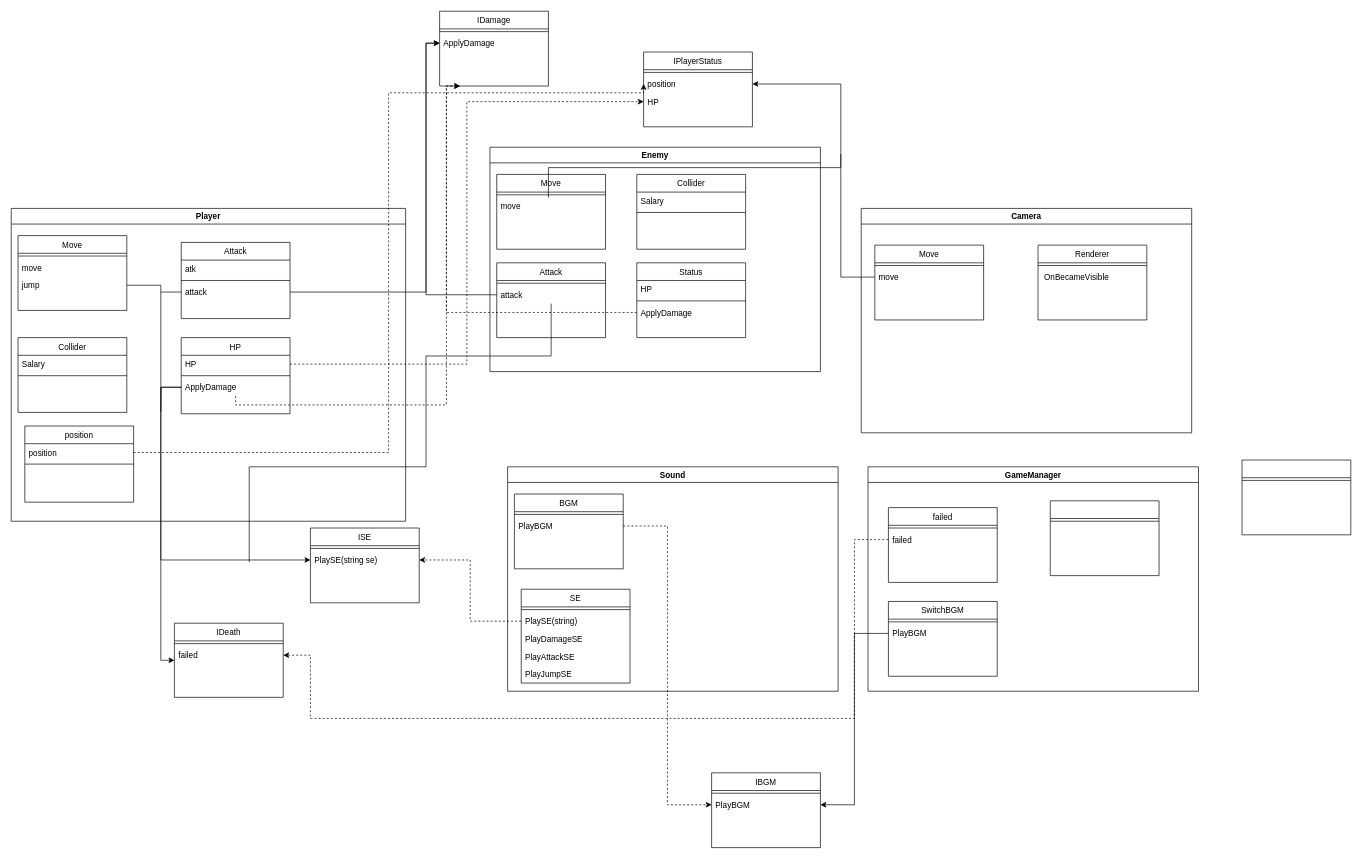
Image size: 1362x859. Some labels were removed from this diagram. Each missing label, with the centre of its shape:
Clear: the point at 1104,538
GUI: the point at 1296,497
